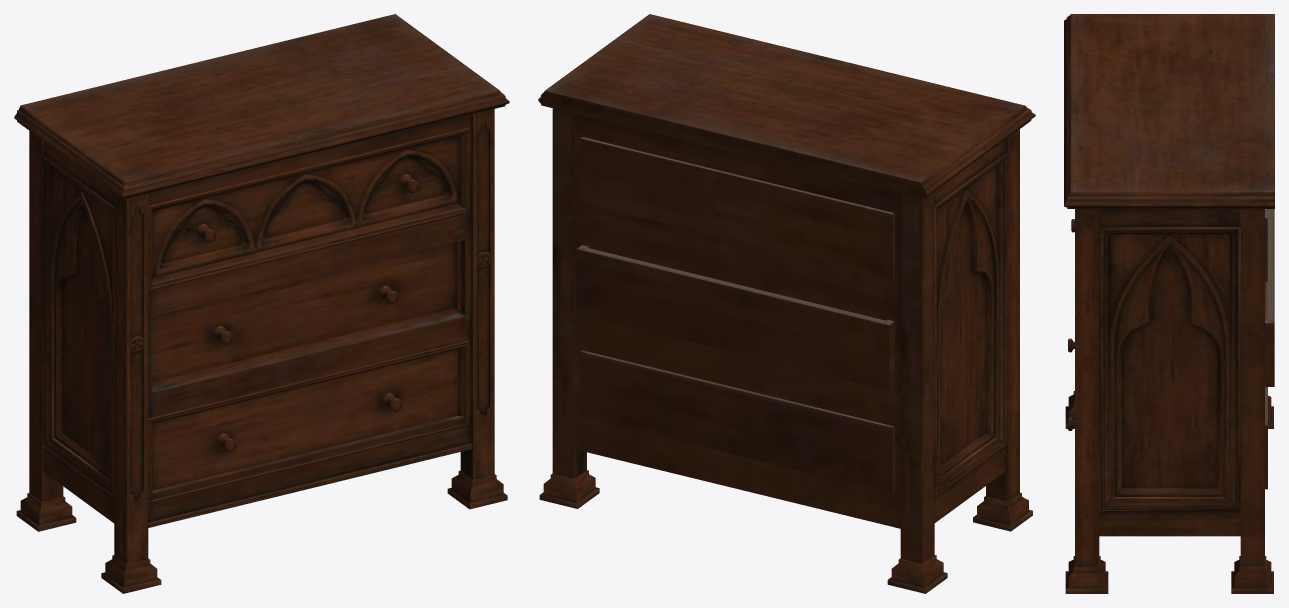
Rendered from GothicCommode_01.glb.
3 views of the same model, side by side, from view 1: azimuth 30°, elevation 25°; view 2: azimuth 150°, elevation 25°; view 3: azimuth 270°, elevation 25° (orthographic). The views are drawn at different scales.
Parts seen in each view (by area): view 1: GothicCommode_01; view 2: GothicCommode_01; view 3: GothicCommode_01.
Boxes of the visible parts, left/top/right/bottom form: GothicCommode_01: left=14, top=14, right=509, bottom=593; GothicCommode_01: left=538, top=14, right=1035, bottom=593; GothicCommode_01: left=1064, top=14, right=1274, bottom=593.
Bounding box in the file's own units: 1.2 × 1.21 × 0.5807.
1 material, 1 textured.
